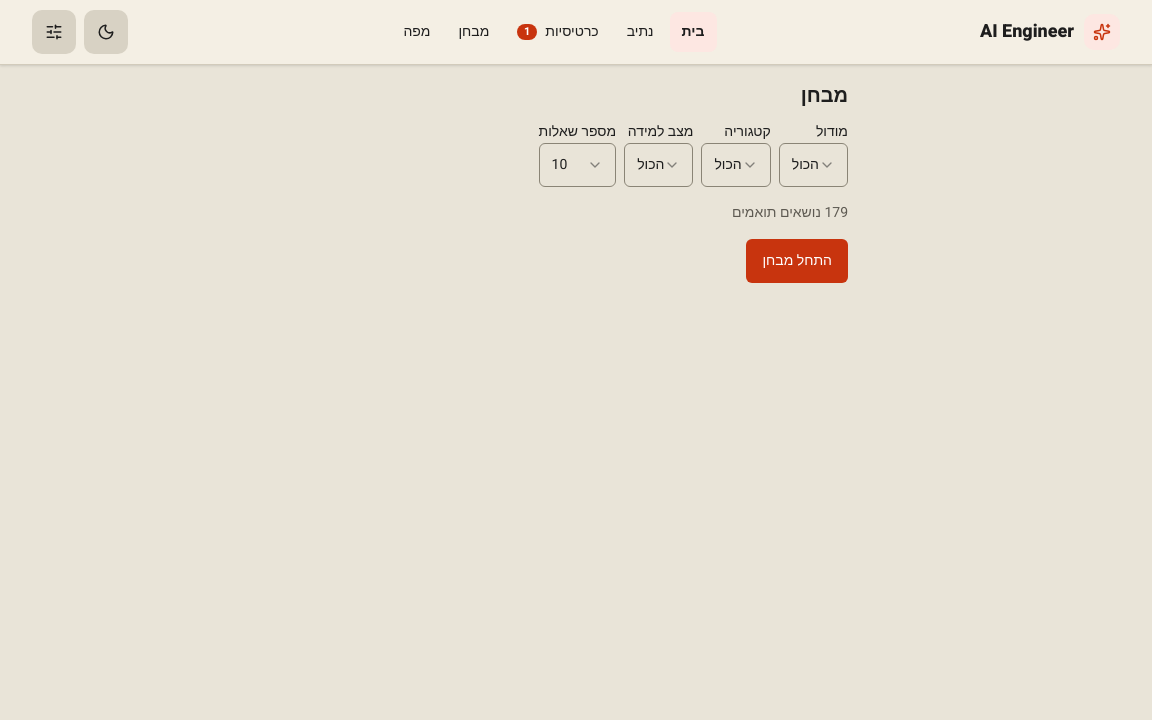
Quiz › selecting a wrong option on an already-scheduled topic re-grades it "again"
Click the dropdown named "מצב למידה" at [659, 165], box [624, 143, 694, 187]
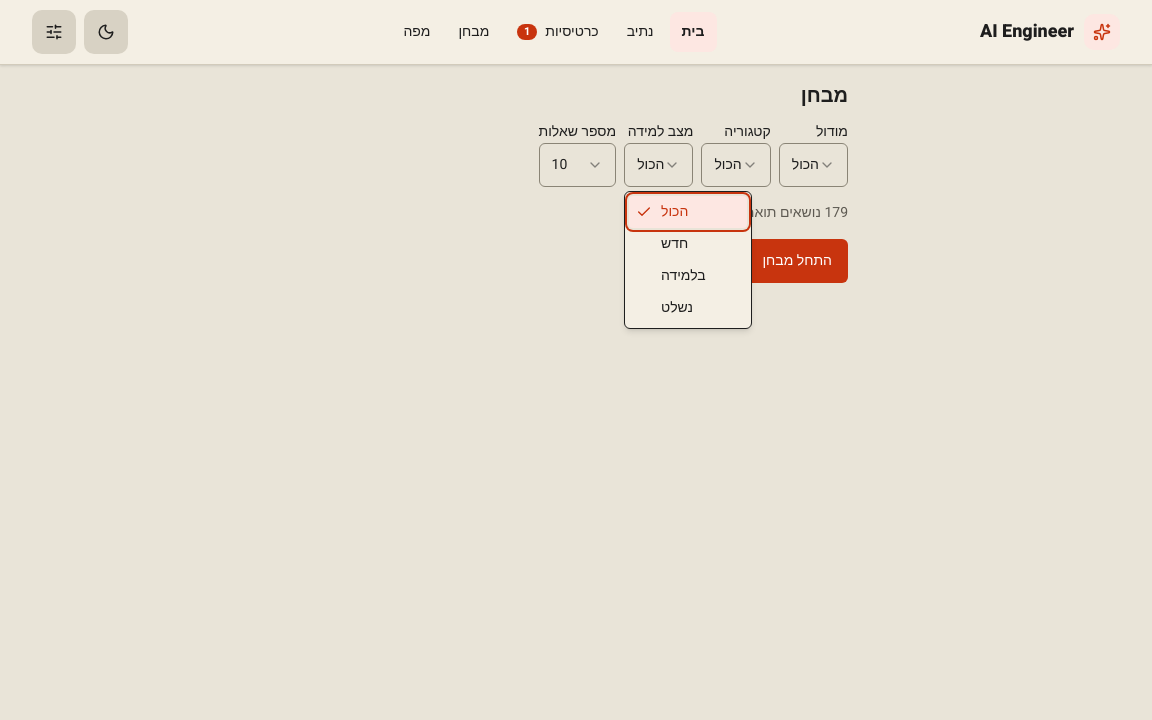
Click the option "חדש" at [675, 244], box [661, 233, 688, 254]
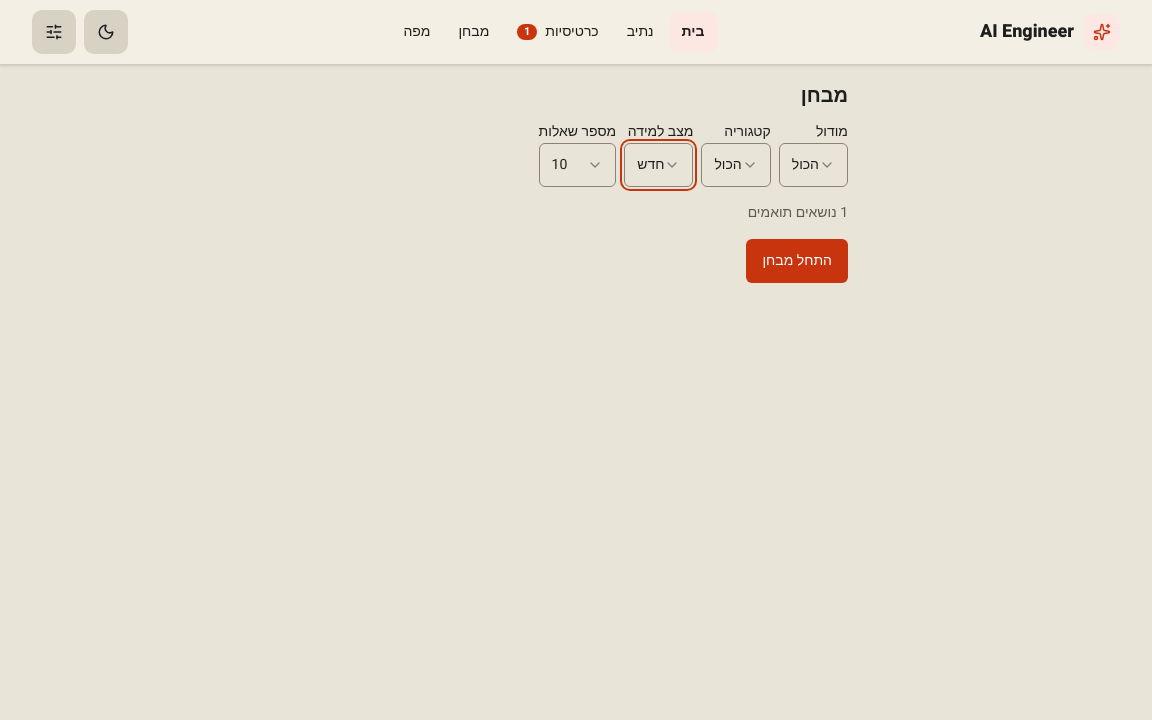
Click the button "התחל מבחן" at [797, 261], box [746, 239, 848, 283]
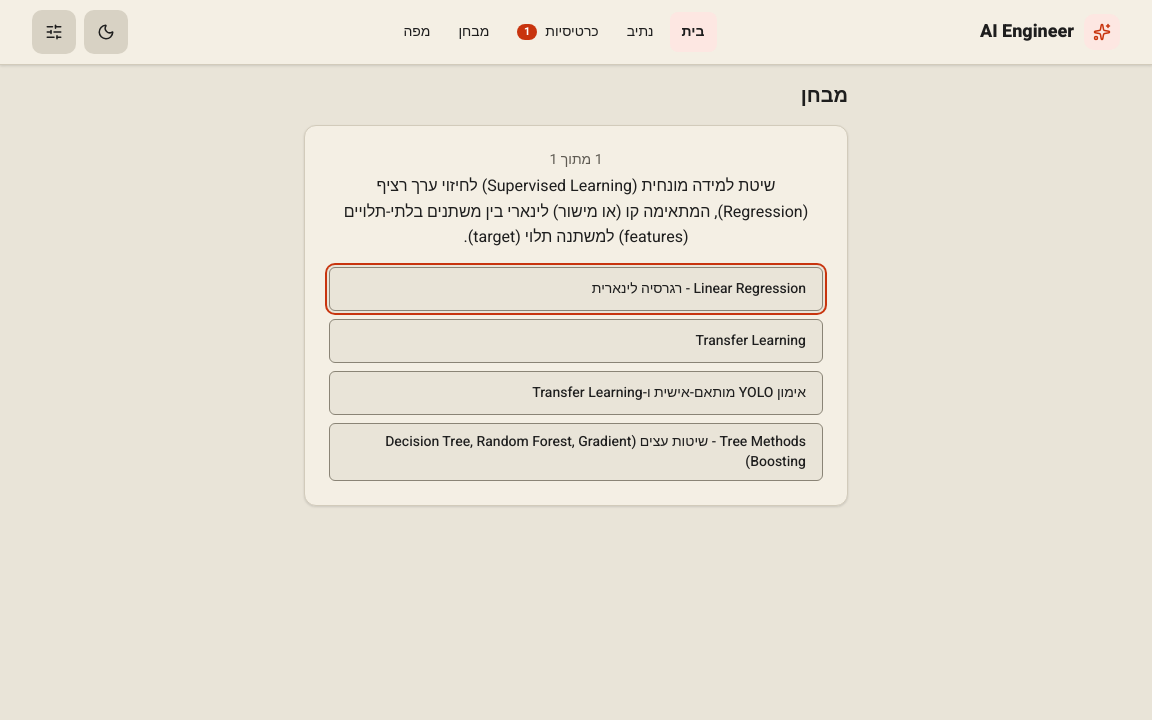
Click the button "Transfer Learning" at [751, 340], box [329, 319, 823, 363]
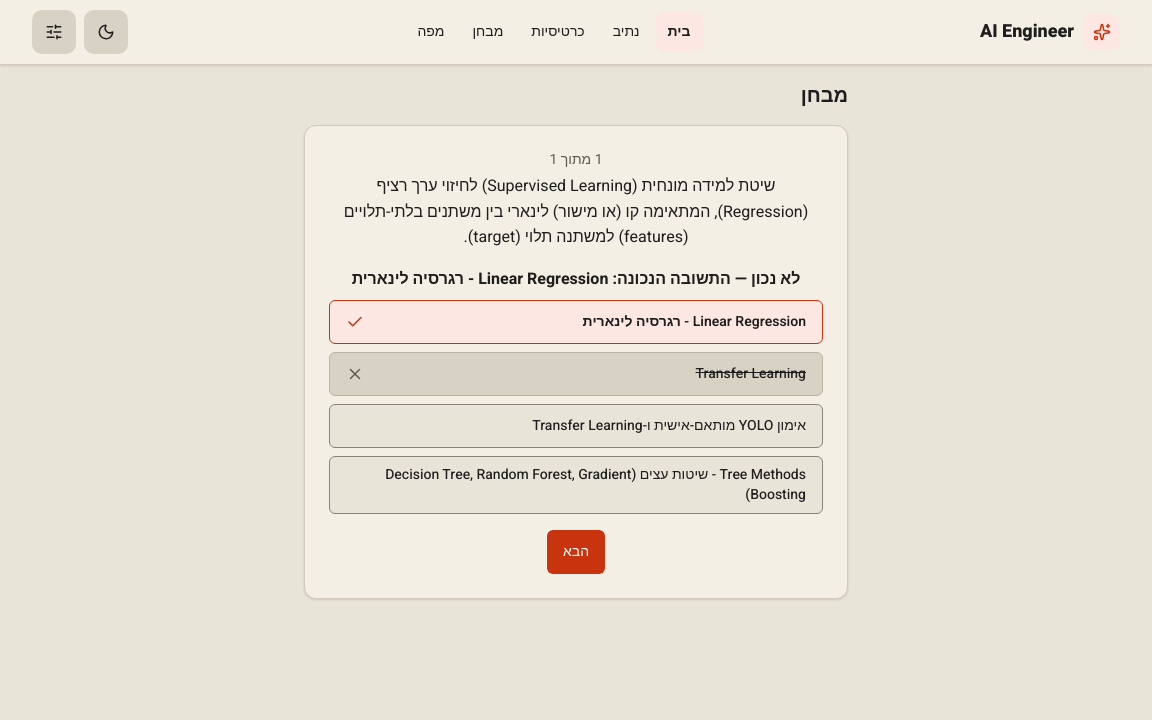
Click the button "הבא" at [576, 552], box [547, 530, 605, 574]
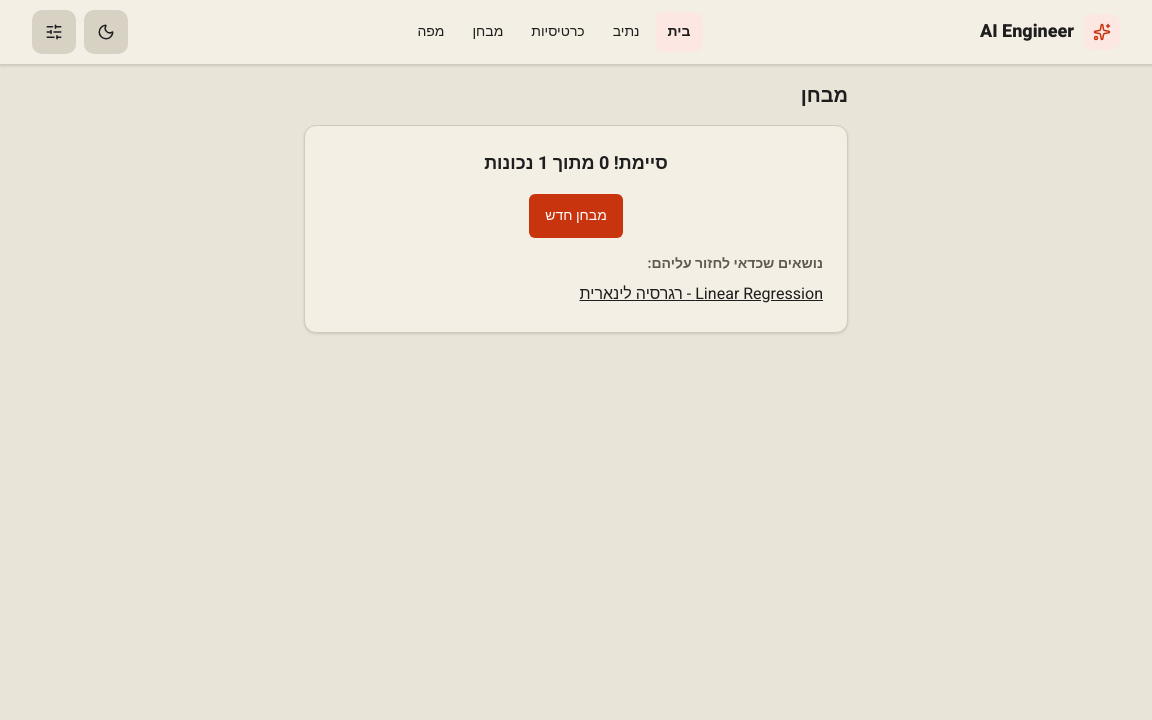
Check: the link "Linear Regression - רגרסיה לינארית" is shown, box [580, 282, 823, 306]
Check: the message shows "0 מתוך 1 נכונות", box [484, 150, 668, 177]
